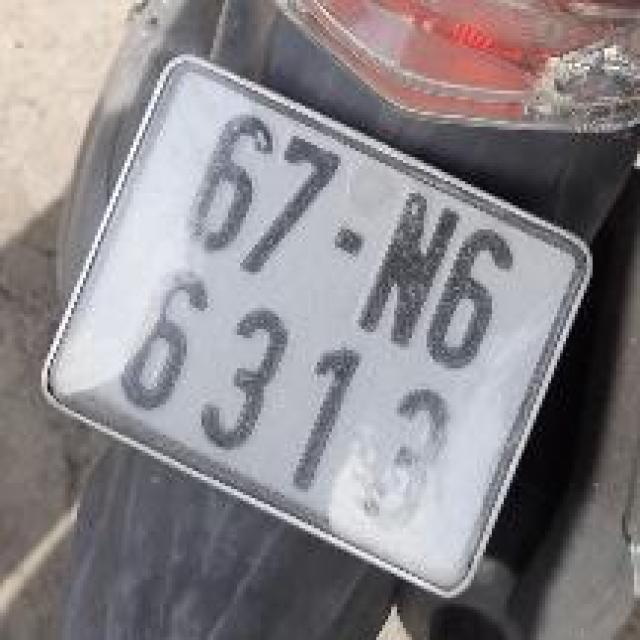1: (251, 318, 385, 510)
3: (342, 365, 478, 562), (182, 287, 305, 463)
6: (93, 244, 235, 430), (405, 207, 539, 391), (164, 92, 290, 281)
7: (232, 117, 359, 301)
N: (346, 181, 470, 358)
